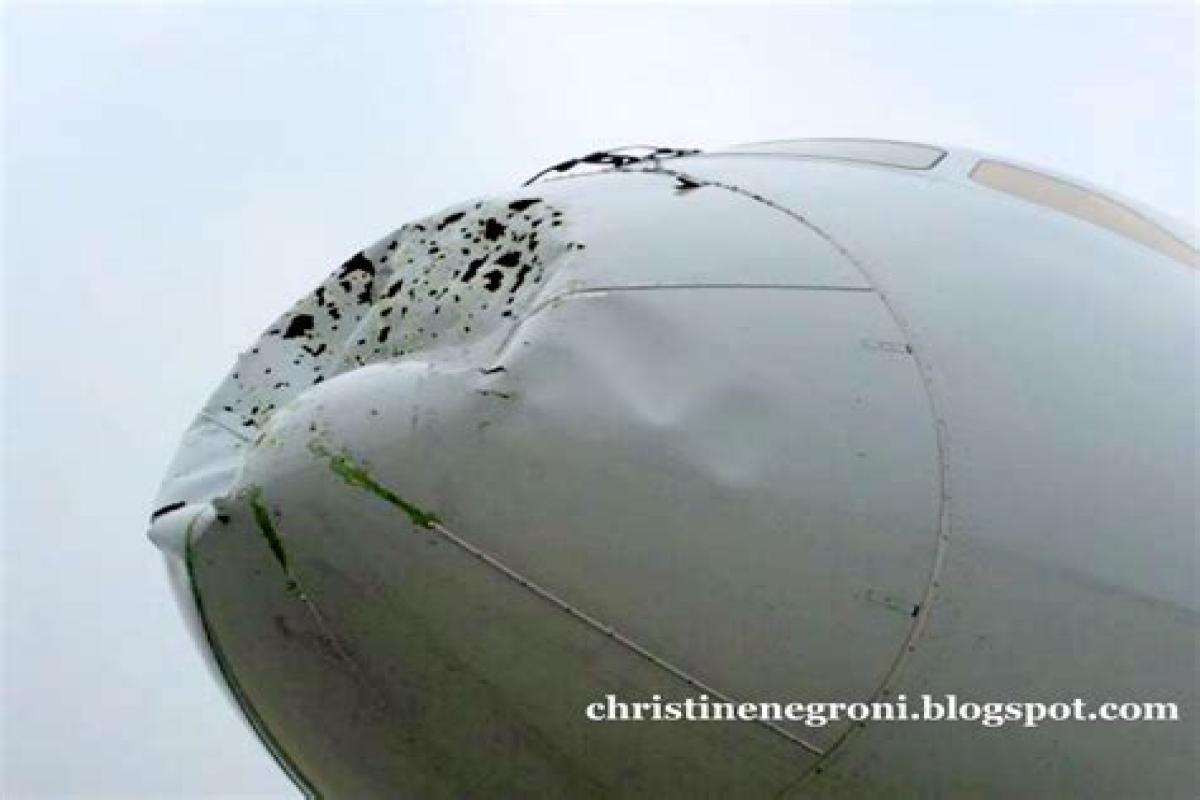Fuselage_damage: (120, 136, 714, 641)
